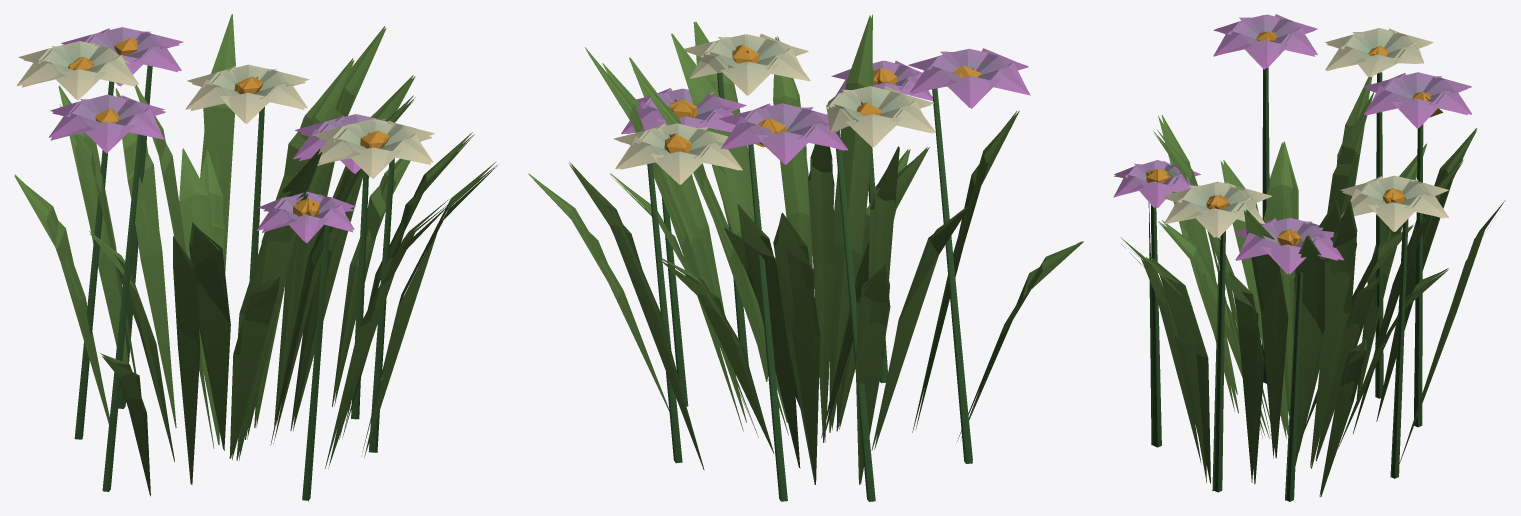
File: Flowers.glb
The picture shows the model from 3 angles, left to right: view 1: azimuth 30°, elevation 25°; view 2: azimuth 150°, elevation 25°; view 3: azimuth 270°, elevation 25°; orthographic projection. The views are drawn at different scales.
Visible parts, largest first — view 1: Flowers_L0, Flowers_L1, Flowers_L2; view 2: Flowers_L0, Flowers_L2, Flowers_L1; view 3: Flowers_L0, Flowers_L1, Flowers_L2.
Boxes of the visible parts, bbox=[...] form: Flowers_L0: bbox=[14, 14, 496, 500]; Flowers_L1: bbox=[15, 28, 497, 499]; Flowers_L2: bbox=[14, 28, 497, 501]; Flowers_L0: bbox=[528, 15, 1081, 501]; Flowers_L2: bbox=[529, 22, 1083, 483]; Flowers_L1: bbox=[547, 14, 1083, 484]; Flowers_L0: bbox=[1114, 14, 1505, 501]; Flowers_L1: bbox=[1114, 15, 1480, 500]; Flowers_L2: bbox=[1114, 14, 1487, 494].
Size of the model in its own units: 0.7016 by 0.6007 by 0.6022.
